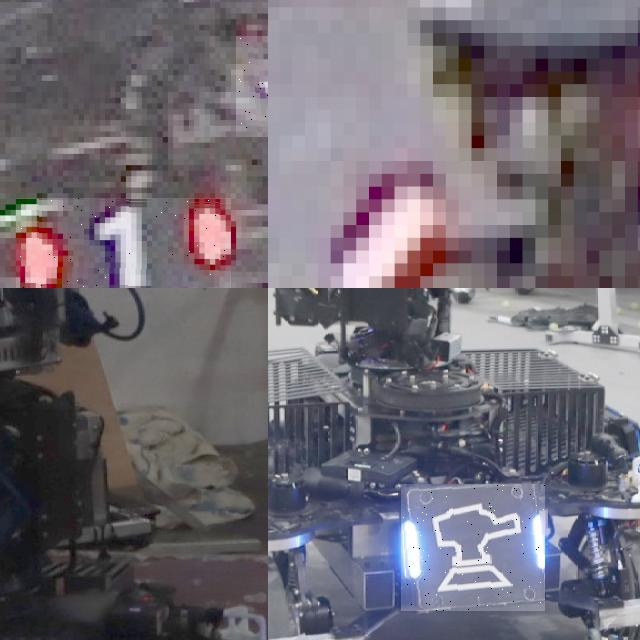Bs: (401, 484, 545, 612)
R1: (16, 198, 231, 288), (236, 36, 268, 137)
